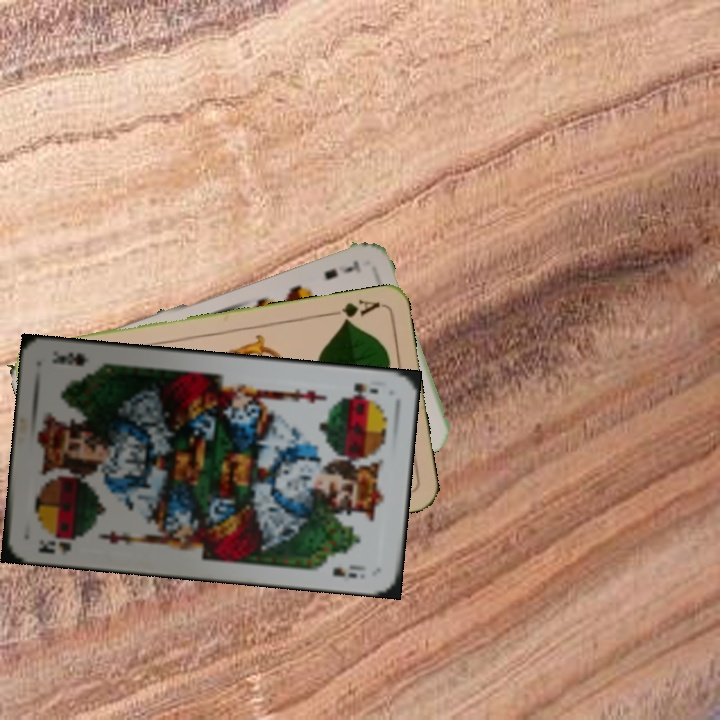E7: (320, 257, 363, 283)
GA: (324, 296, 383, 326)
SK: (34, 531, 74, 558), (349, 378, 382, 400)
